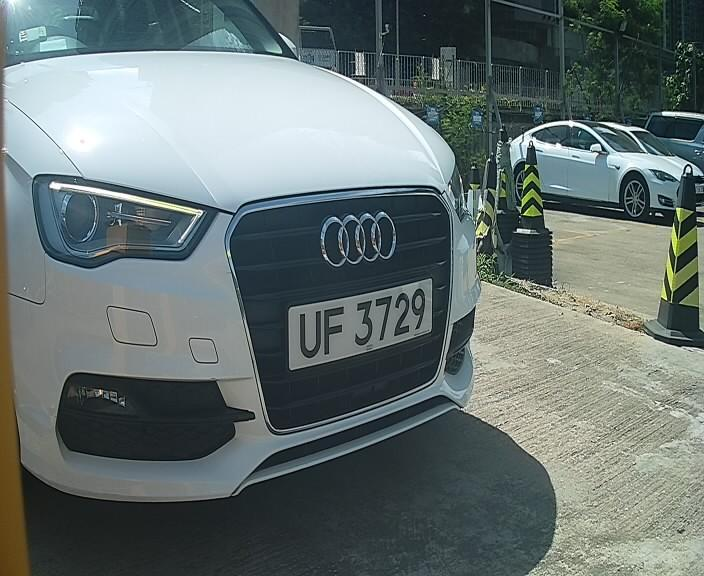privatecar: (2, 7, 505, 510)
